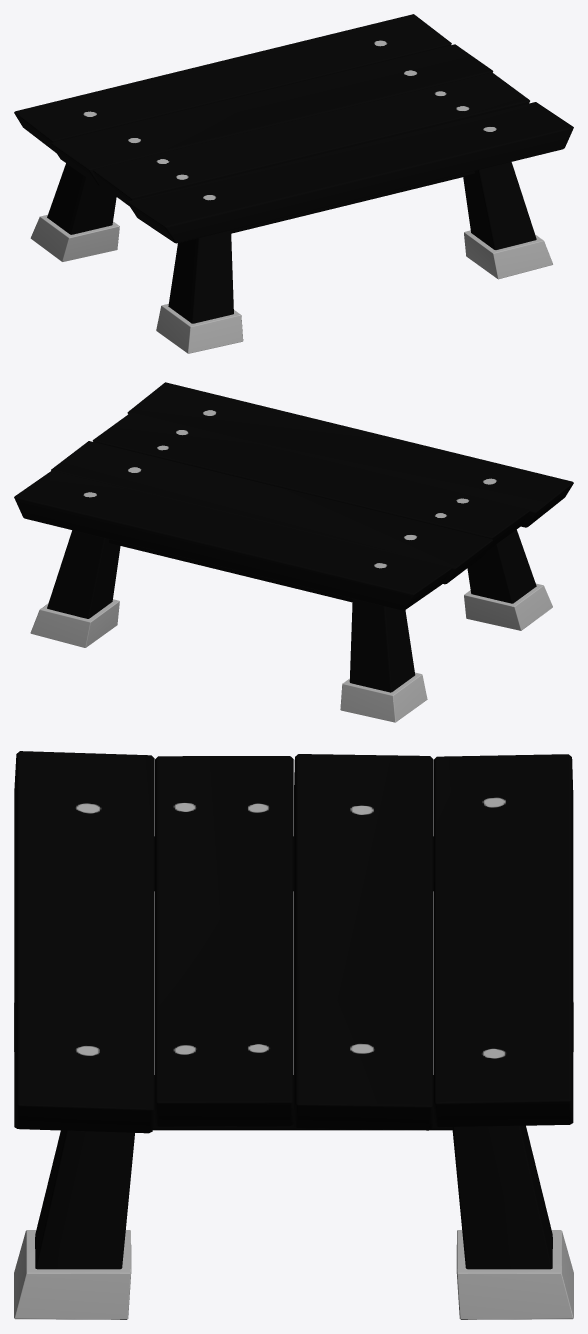
The model's file is Table.glb.
The picture shows the model from 3 angles, top to bottom: view 1: azimuth 30°, elevation 25°; view 2: azimuth 150°, elevation 25°; view 3: azimuth 270°, elevation 25°; orthographic projection. The views are drawn at different scales.
Parts seen in each view (by area): view 1: Table 2; view 2: Table 2; view 3: Table 2.
Boxes of the visible parts, x1,y1,x2,y2 form: Table 2: (14,14,573,353); Table 2: (14,382,573,722); Table 2: (14,751,573,1319).
Size of the model in its own units: 1.71 by 0.5348 by 1.14.
1 material, 1 textured.
